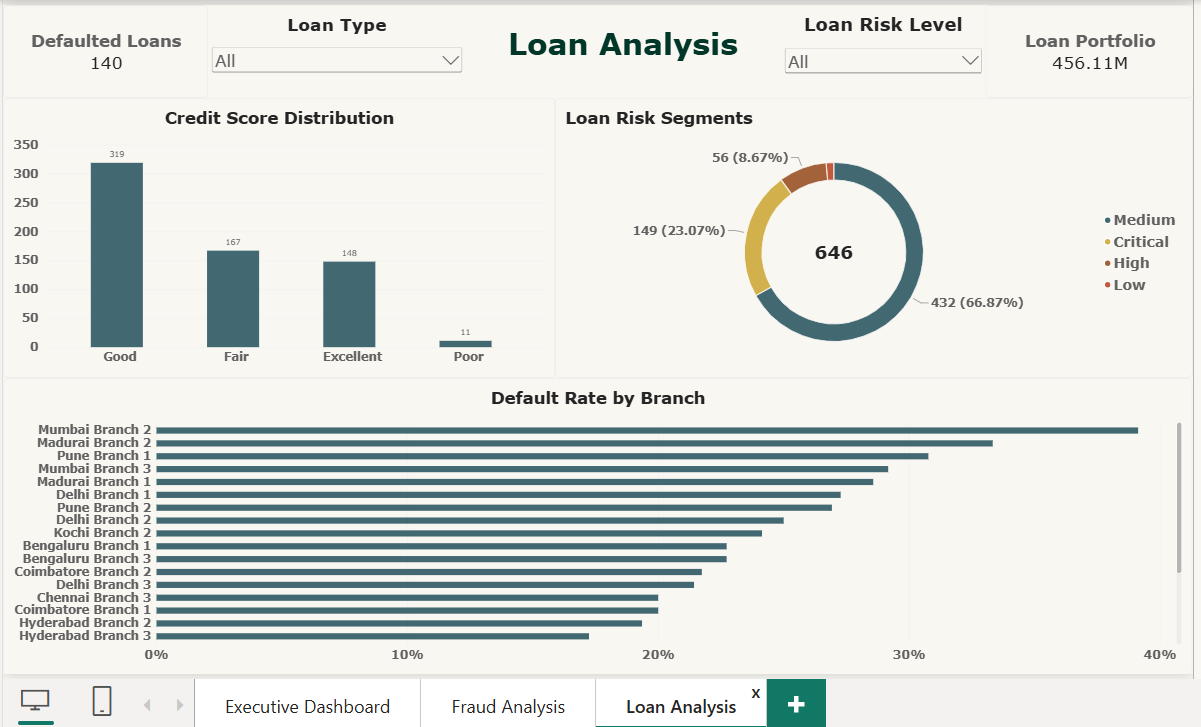

The page's visual inventory and layout, read from the dashboard file:
{"tool":"powerbi","page":{"name":"Loan Analysis","canvas":[1920,1080],"ordinal":2},"visuals":[{"type":"cardVisual","fields":{"Data":["Cleaned Data.Defaulted Loans"]},"box":[0,0,331.6,150.4],"z":0},{"type":"cardVisual","fields":{"Data":["Cleaned Data.Loan Portfolio"]},"box":[1584.3,0,336,150],"z":1},{"type":"clusteredColumnChart","title":"Credit Score Distribution","fields":{"Category":["LoanRisk.credit_score_band"],"Y":["CountNonNull(LoanRisk.loan_id)"]},"box":[0,150.4,890.4,451.3],"z":2},{"type":"donutChart","title":"Loan Risk Segments","fields":{"Category":["LoanRisk.loan_risk_level"],"Y":["CountNonNull(LoanRisk.loan_id)"]},"box":[890.4,150.4,1028.6,451.3],"z":3},{"type":"clusteredBarChart","fields":{"Category":["LoanRisk.branch_name"],"Y":["Cleaned Data.Default Rate"]},"box":[0,601.8,1919,479],"z":4},{"type":"textbox","box":[746.1,0,509.7,150.4],"z":5},{"type":"slicer","title":"Loan Type","fields":{"Values":["LoanRisk.loan_type"]},"box":[331.6,0,414.5,150.4],"z":6},{"type":"slicer","title":"Loan Risk Level","fields":{"Values":["LoanRisk.loan_risk_level"]},"box":[1255.8,0,328.5,150.4],"z":7}]}

Visuals, with their boxes on the page's 1920x1080 design canvas (x1, y1, x2, y2). These are canvas units, not pixel positions in the 1201x727 screenshot, which may show the page scaled, cropped or inside an application window:
cardVisual - Cleaned Data.Defaulted Loans: (0,0,332,150)
cardVisual - Cleaned Data.Loan Portfolio: (1584,0,1920,150)
"Credit Score Distribution" clusteredColumnChart: (0,150,890,602)
"Loan Risk Segments" donutChart: (890,150,1919,602)
clusteredBarChart - LoanRisk.branch_name x Cleaned Data.Default Rate: (0,602,1919,1081)
textbox: (746,0,1256,150)
"Loan Type" slicer: (332,0,746,150)
"Loan Risk Level" slicer: (1256,0,1584,150)
